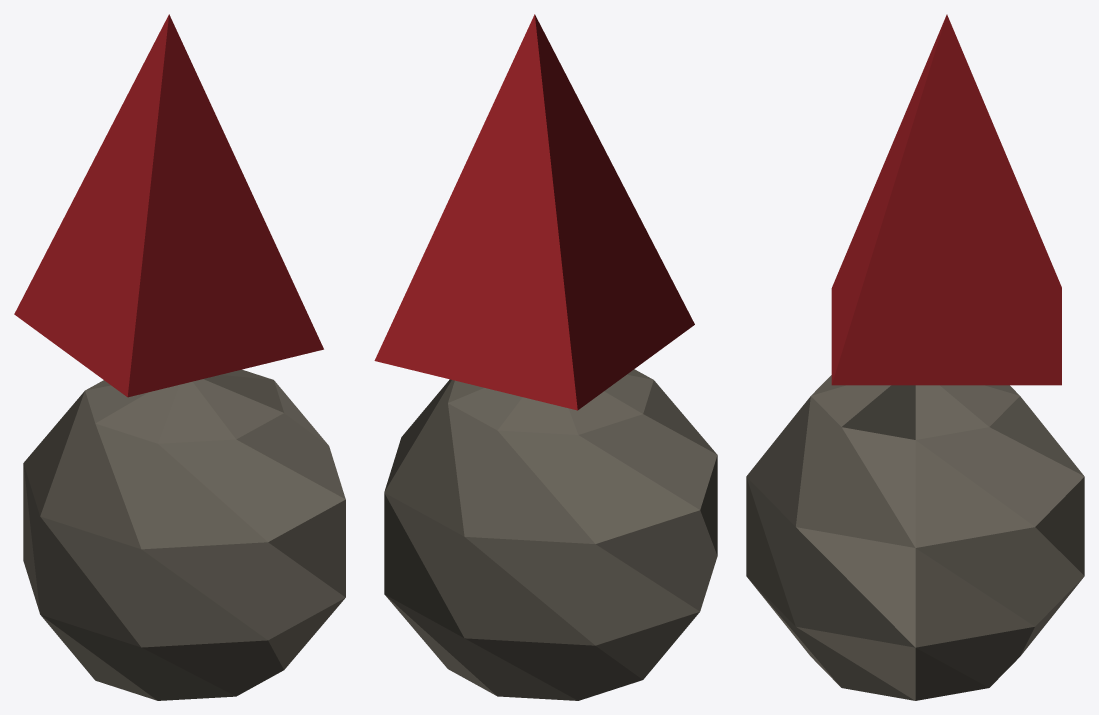
The model's file is knight.obj.
3 renders of one model, left to right at view 1: azimuth 30°, elevation 25°; view 2: azimuth 150°, elevation 25°; view 3: azimuth 270°, elevation 25°, orthographic. The views are drawn at different scales.
Parts seen in each view (by area): view 1: knight_head, knight_plume; view 2: knight_head, knight_plume; view 3: knight_head, knight_plume.
Part boxes in pixels (left/top/right/bottom): knight_head: left=23, top=369, right=345, bottom=700; knight_plume: left=14, top=14, right=323, bottom=397; knight_head: left=384, top=369, right=717, bottom=700; knight_plume: left=374, top=14, right=694, bottom=410; knight_head: left=746, top=375, right=1084, bottom=700; knight_plume: left=831, top=14, right=1061, bottom=385.
Bounding box in the file's own units: 0.3234 × 0.71 × 0.3233.
